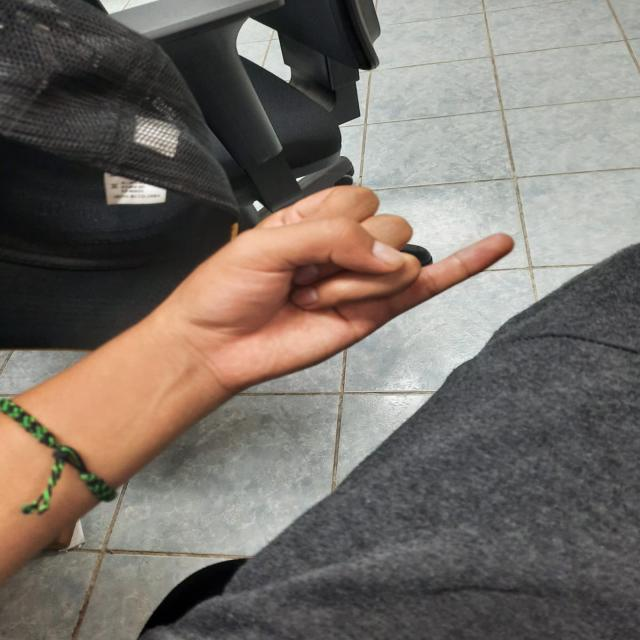Z: (139, 170, 542, 418)
